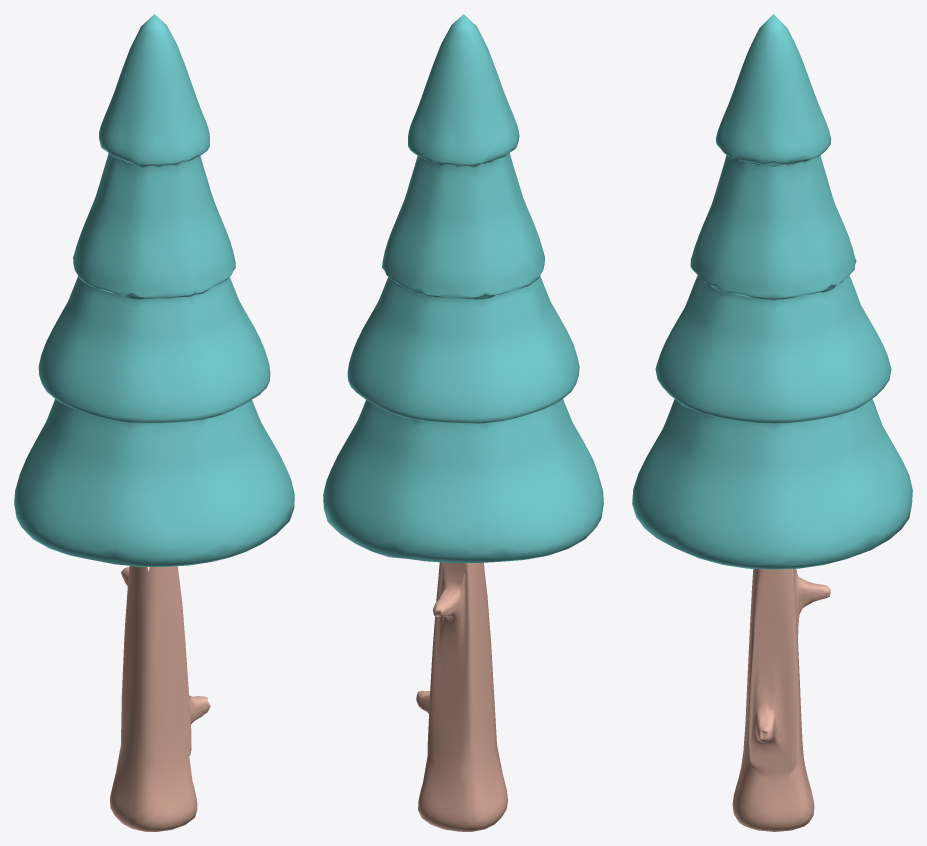
3 views of the same model, side by side, from view 1: azimuth 30°, elevation 25°; view 2: azimuth 150°, elevation 25°; view 3: azimuth 270°, elevation 25° (orthographic).
Size of the model in its own units: 0.2993 by 0.9268 by 0.2922.
